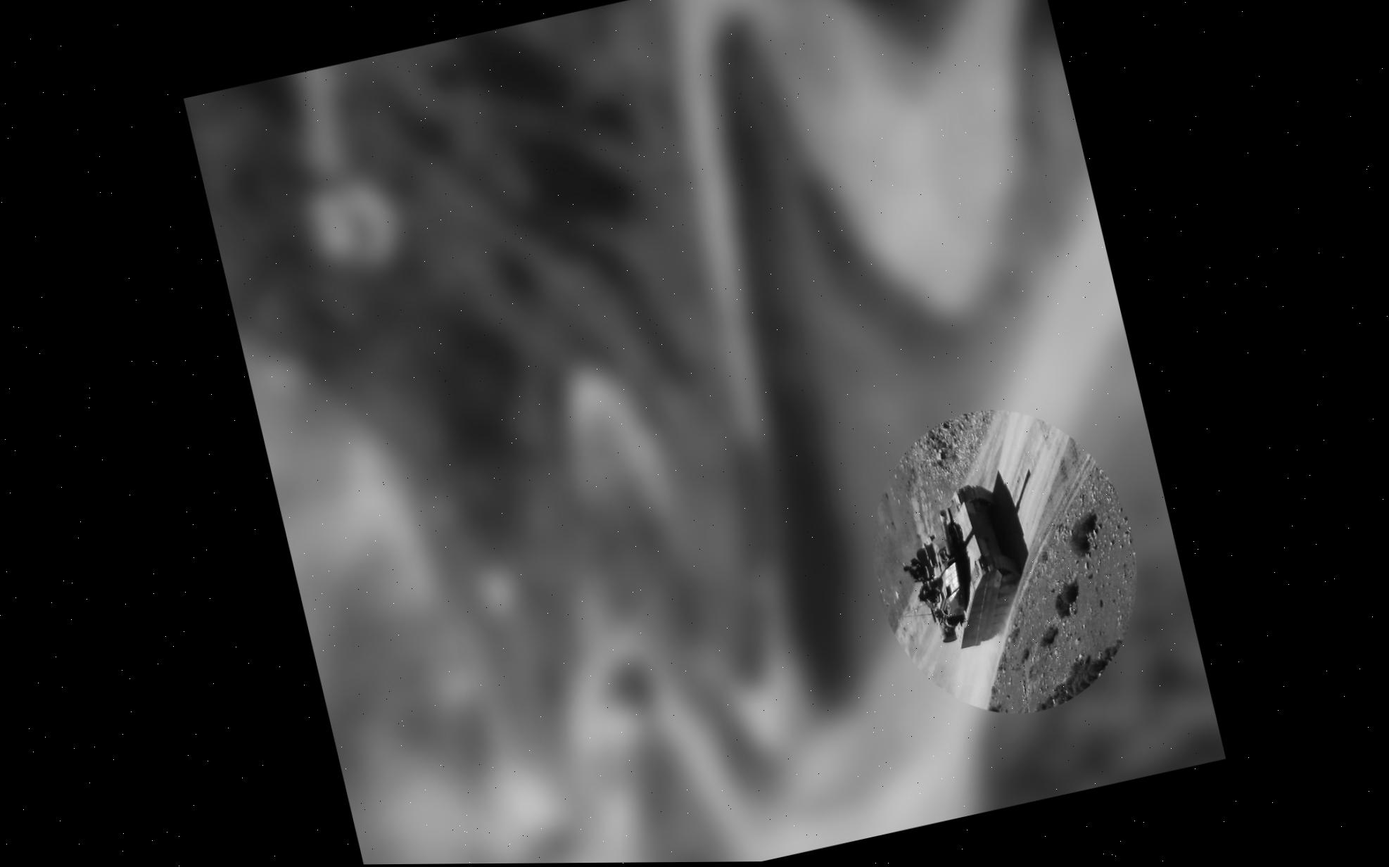tank: (896, 480, 1035, 655)
